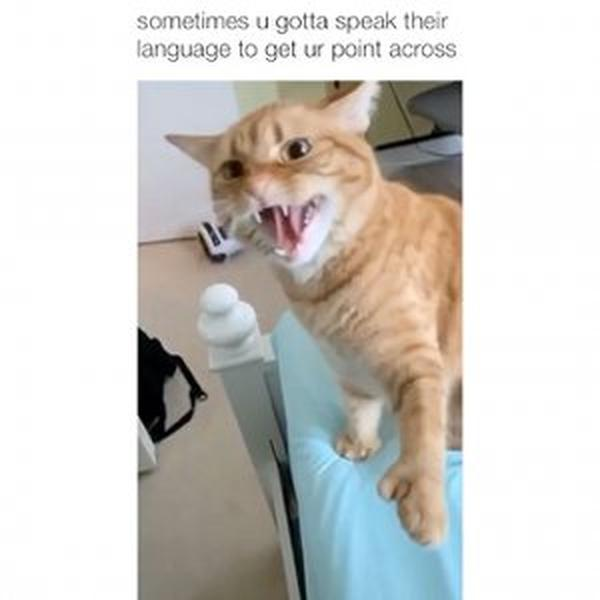michi: (158, 81, 462, 558)
